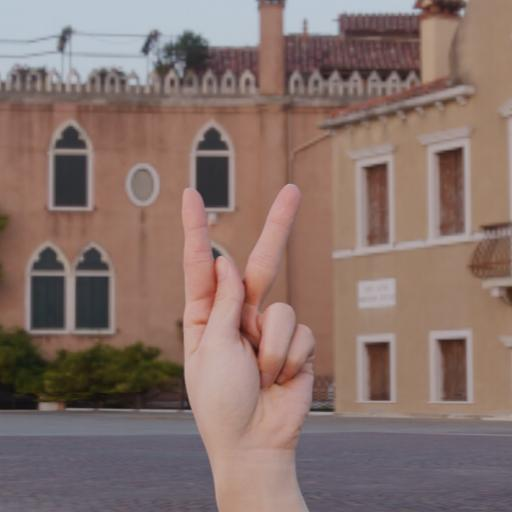K: (174, 179, 336, 512)
